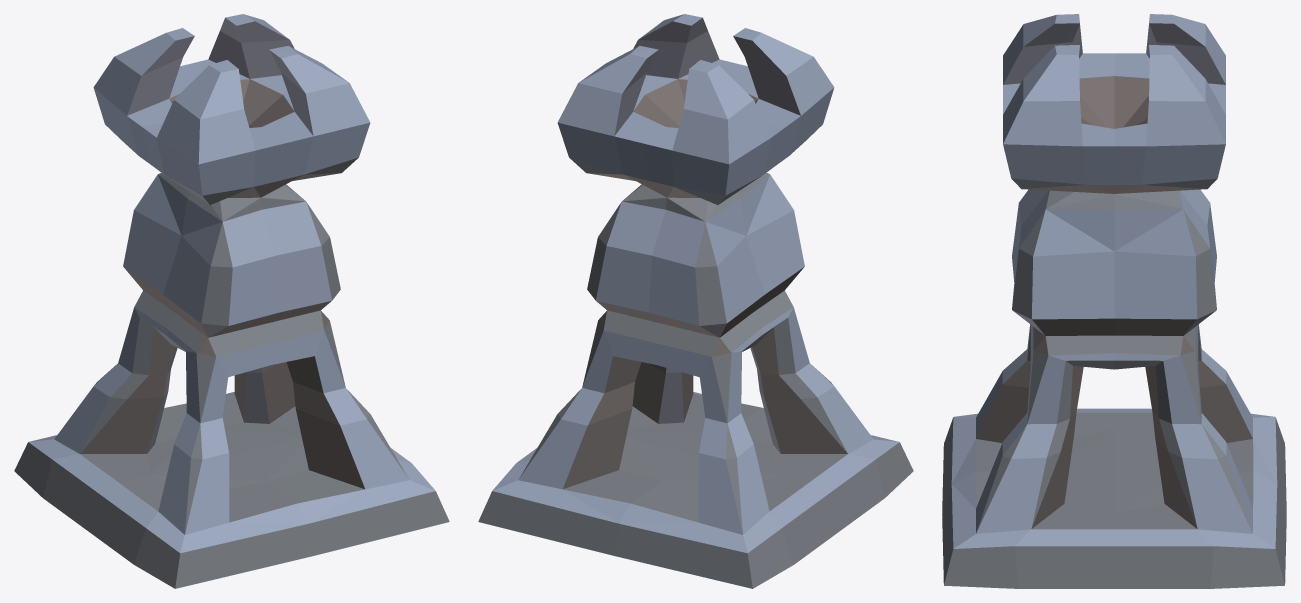
Rendered from Altar_00.FBX.
3 renders of one model, left to right at view 1: azimuth 30°, elevation 25°; view 2: azimuth 150°, elevation 25°; view 3: azimuth 270°, elevation 25°, orthographic. The views are drawn at different scales.
Size of the model in its own units: 131 by 198 by 129.
